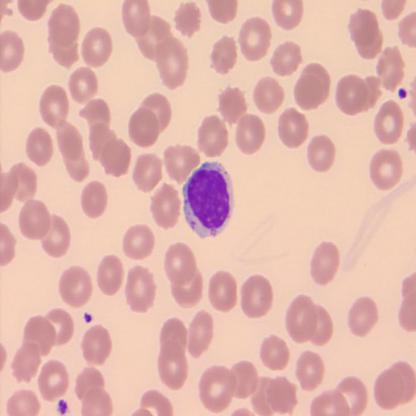Lymphocyte: (181, 159, 237, 240)
